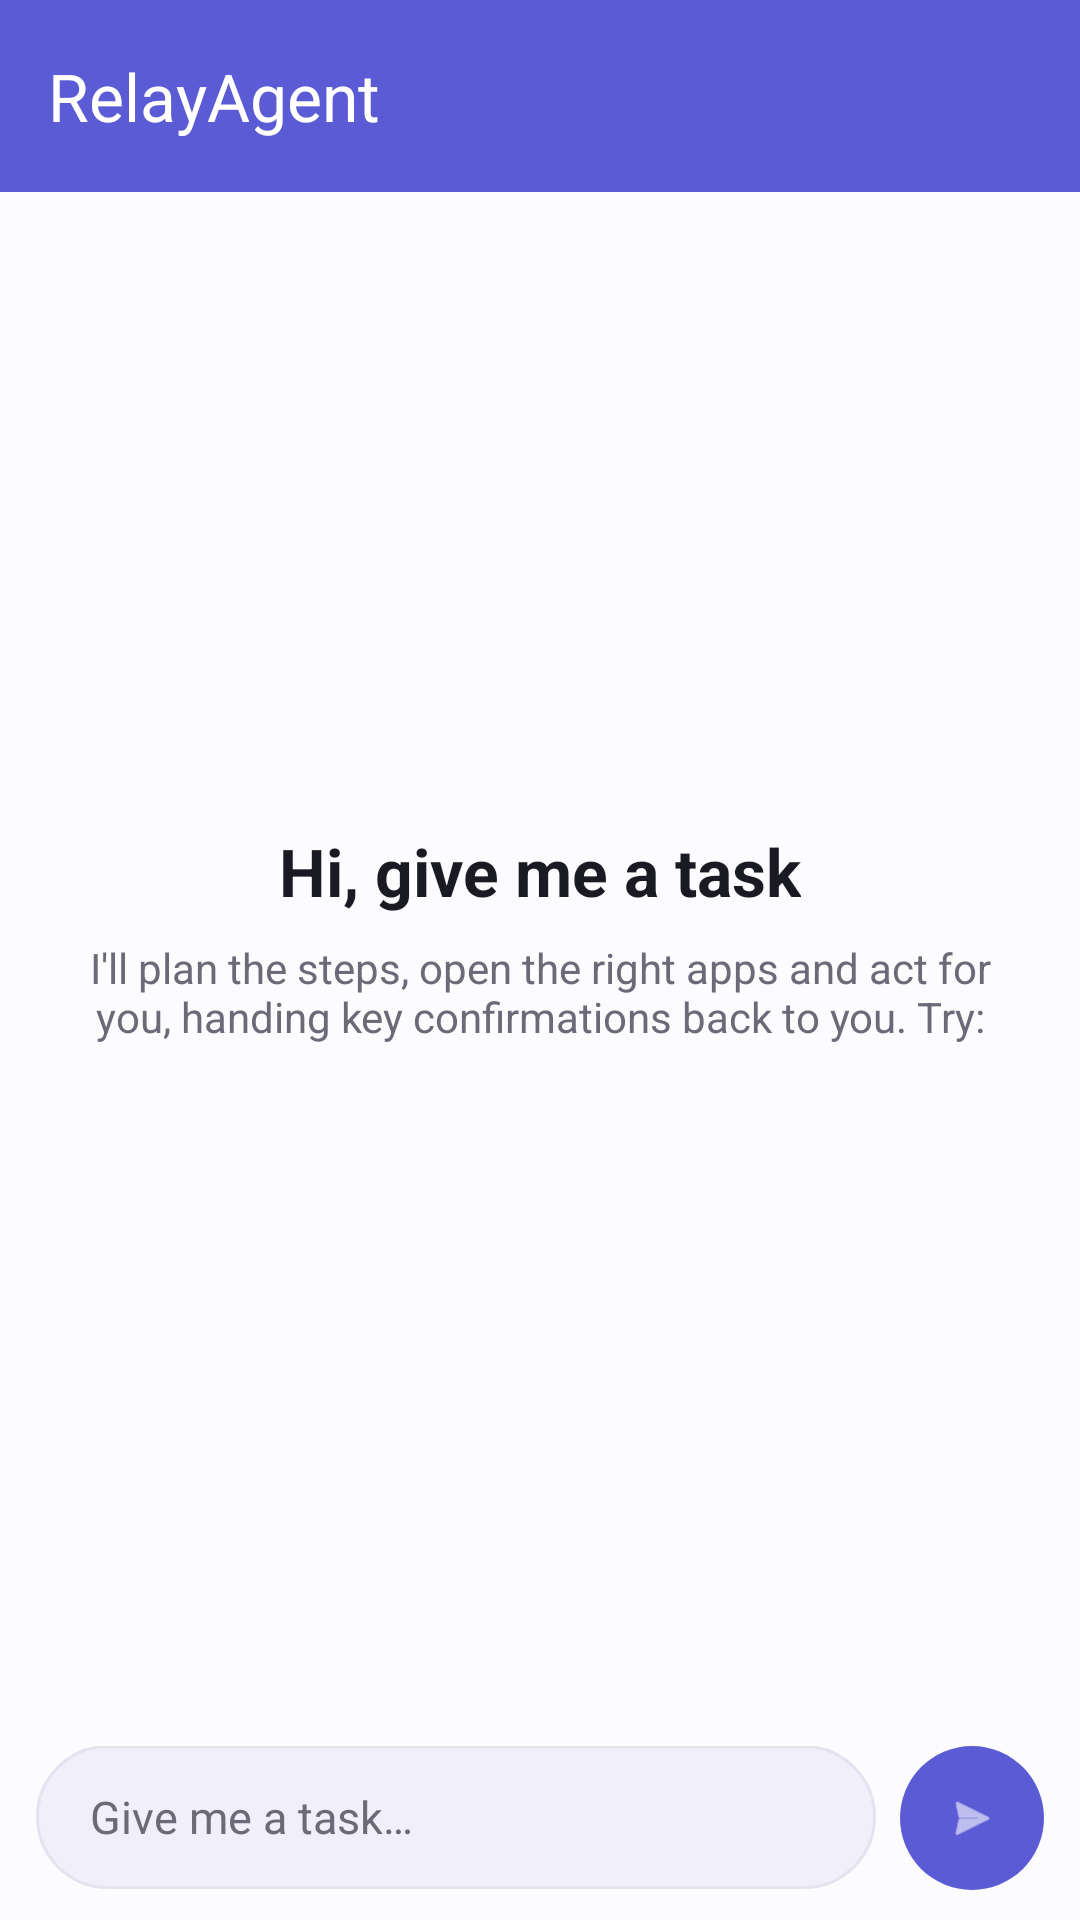

Where icons sit on this 1080x1920 app screen, as box=[x1, y1, x2, y2]:
Send: box=[900, 1746, 1044, 1890]
